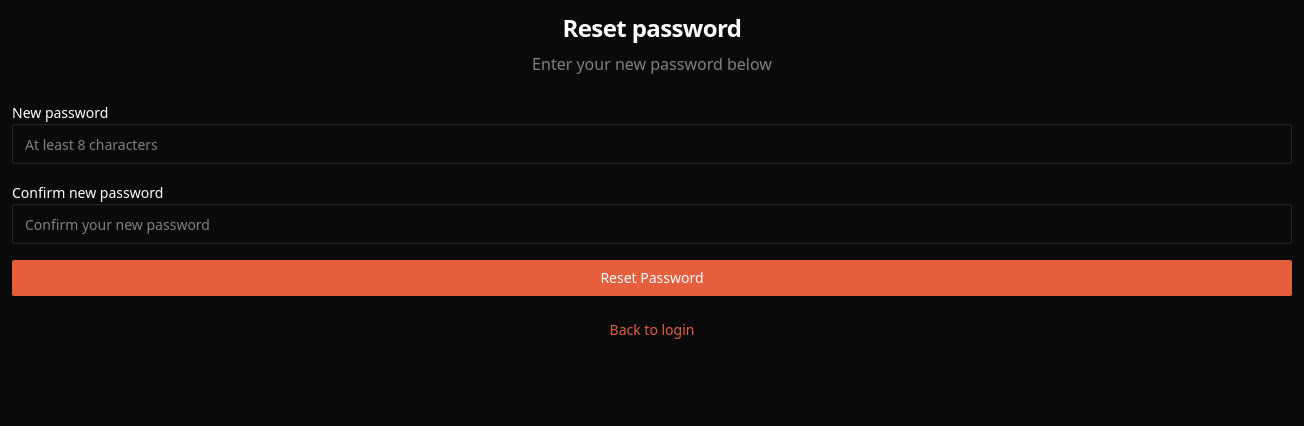
Test: ResetPasswordPage › shows unexpected error when updateUser throws
The image size is (1304, 426).
In the password field labelled "New password": (652, 144) [12,124,1292,164], type "newpassword123"
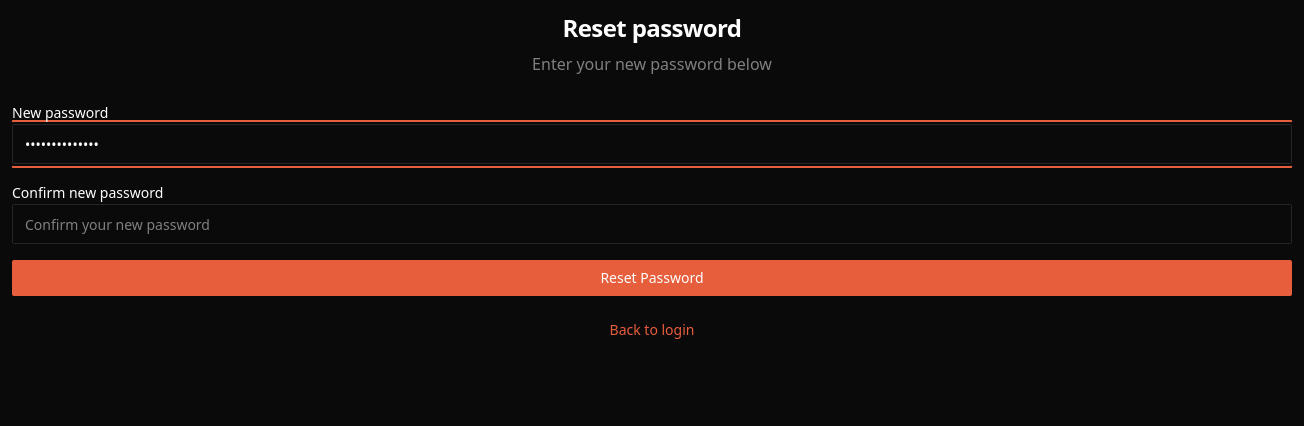
In the password field labelled "Confirm new password": (652, 224) [12,204,1292,244], type "newpassword123"
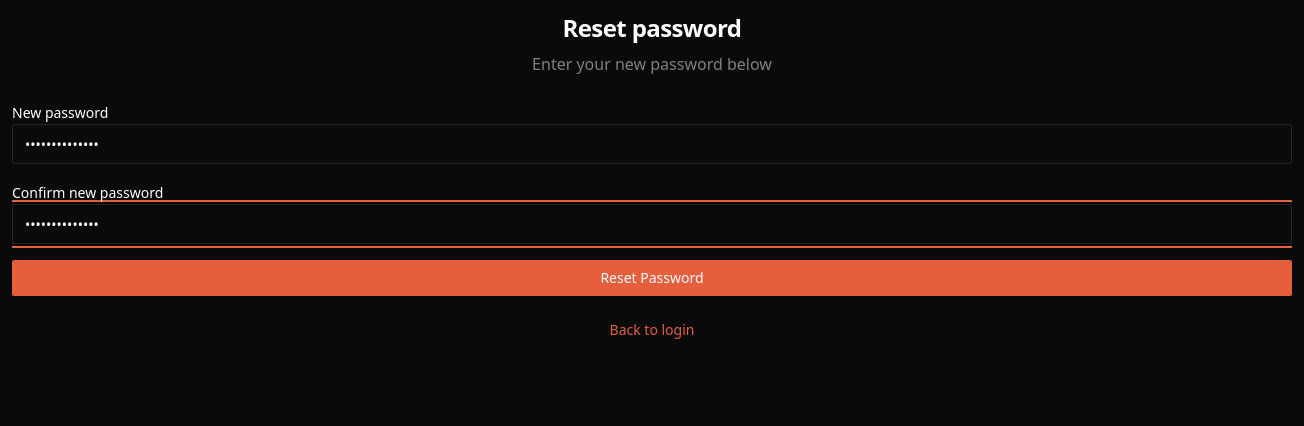
Click the button "Reset Password": (652, 278) [12,260,1292,296]
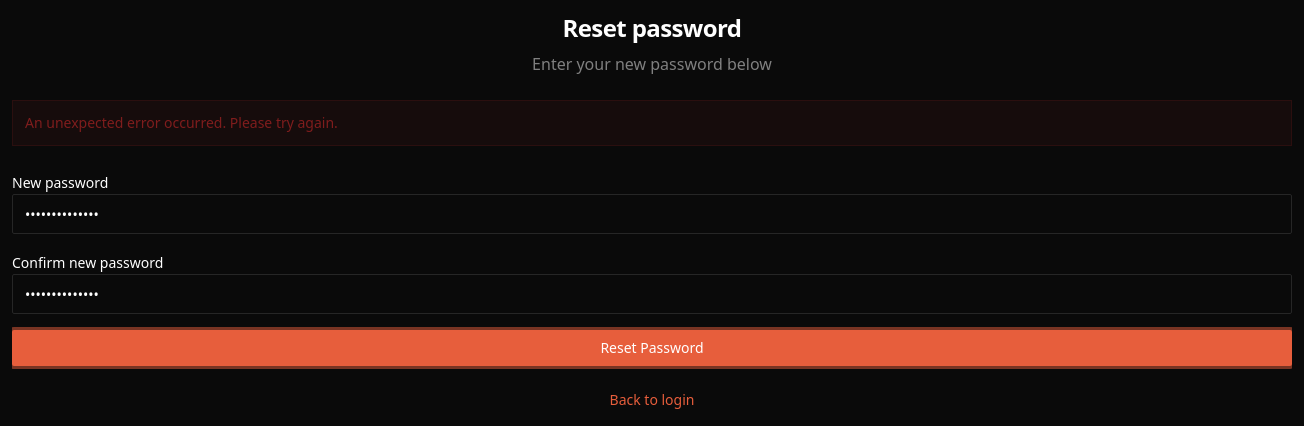
Result: the text "An unexpected error occurred. Please try again." is shown at [12,100,1292,146]
